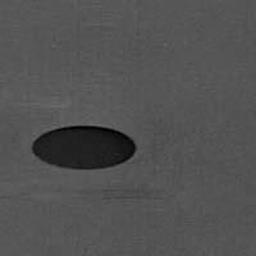Punching: (32, 124, 137, 170)
